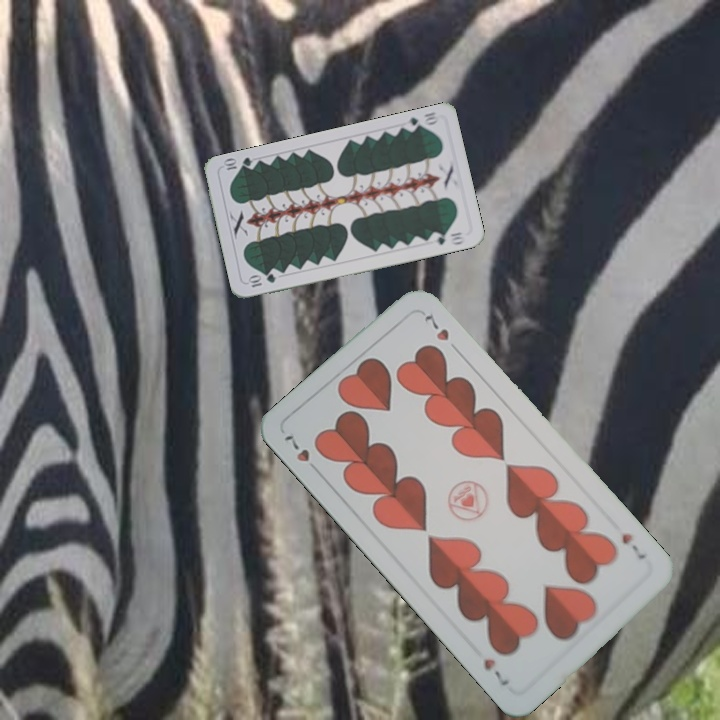G10: (400, 108, 441, 134), (244, 270, 278, 290)
H7: (280, 428, 312, 465), (617, 529, 649, 563)
